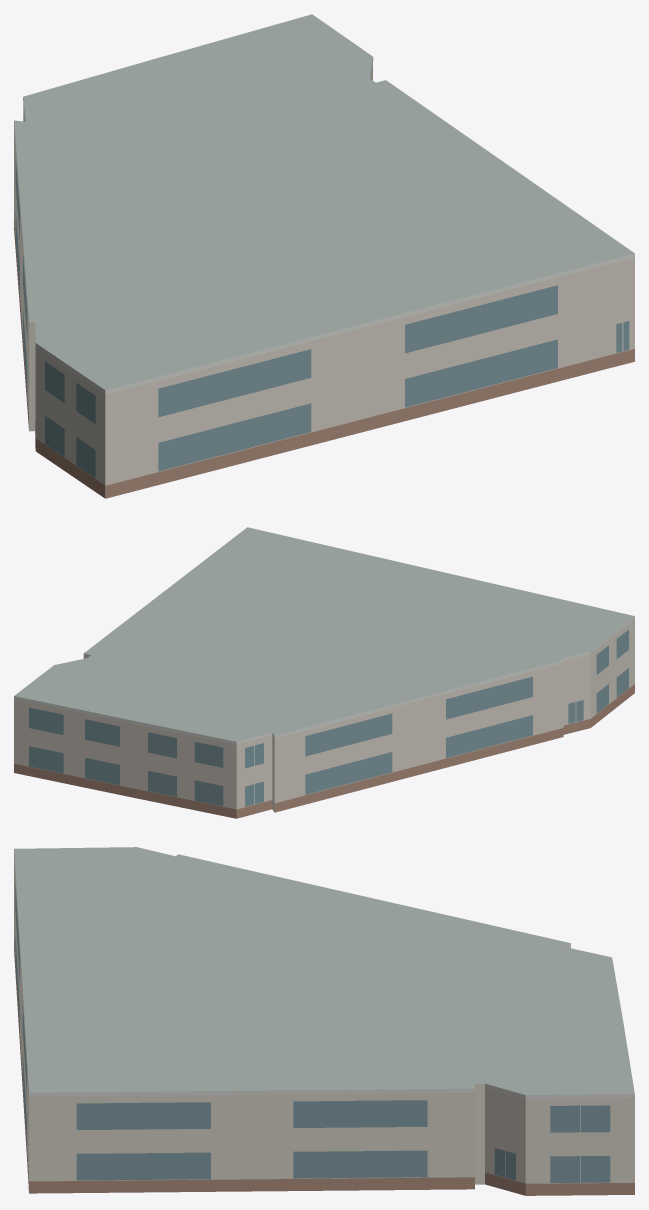
Rendered from survey-upis-32470078.glb.
3 views of the same model, one above another, from view 1: azimuth 30°, elevation 25°; view 2: azimuth 150°, elevation 25°; view 3: azimuth 270°, elevation 25° (orthographic). The views are drawn at different scales.
Visible parts, largest first — view 1: survey-upis-32470078.tmp; view 2: survey-upis-32470078.tmp; view 3: survey-upis-32470078.tmp.
Part boxes in pixels (x1,y1,x2,y2): survey-upis-32470078.tmp: (14, 14, 634, 498); survey-upis-32470078.tmp: (14, 527, 634, 818); survey-upis-32470078.tmp: (14, 847, 634, 1195).
Size of the model in its own units: 32.19 by 6.1 by 34.06.
